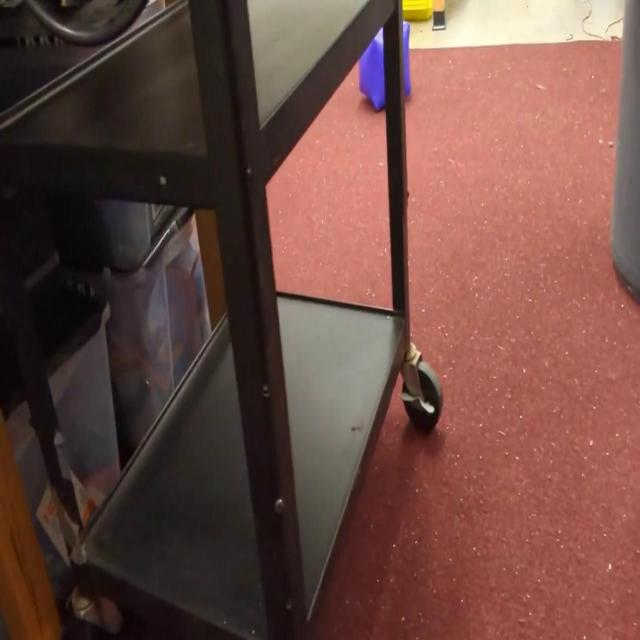frc_cube: (359, 16, 411, 112)
